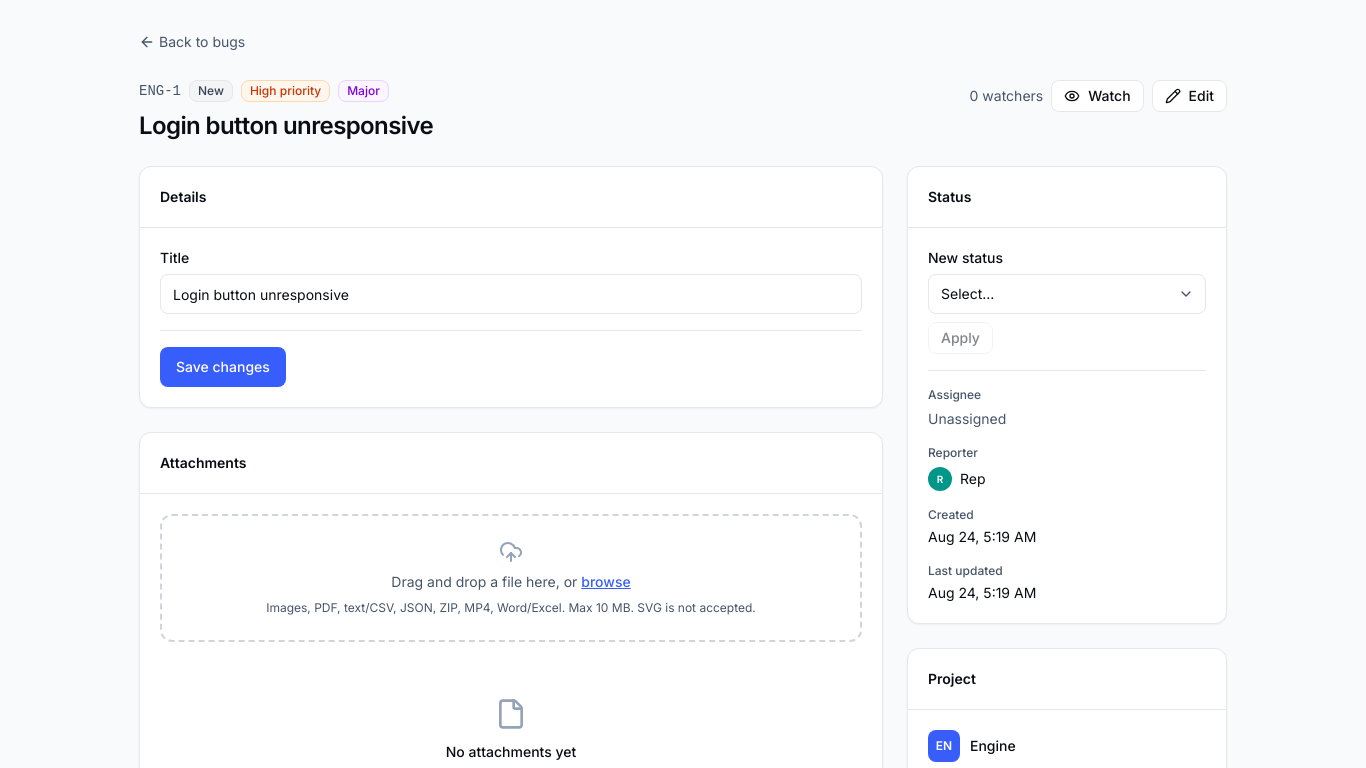
Test: BugDetailPage › shows a version-conflict banner and lets the user reload the latest version
Expected: the form named "edit bug" is shown, [160,248,862,387]
Click the button "Save changes" at (223,367), box [160,347,286,387]
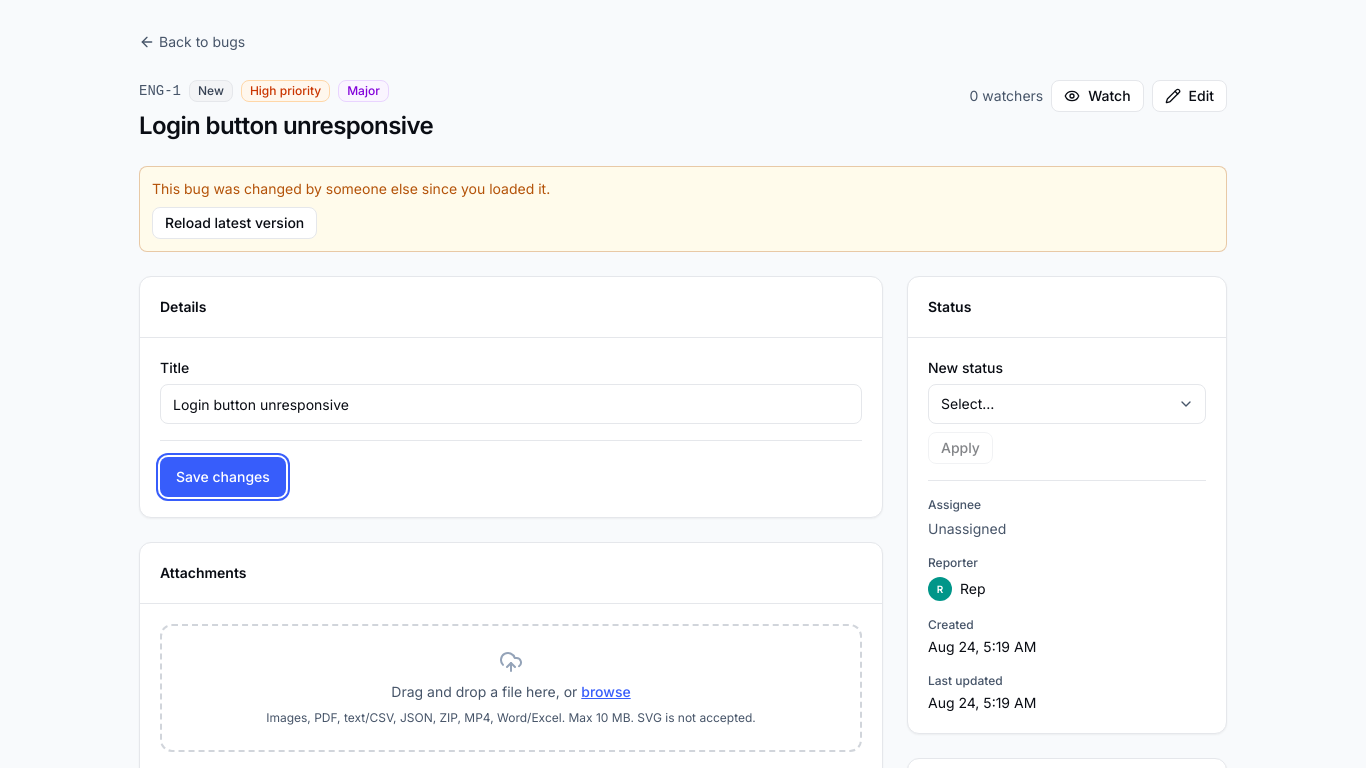
Result: the text "This bug was changed by someone else since you loaded it." is shown at [152,180,550,197]
Click the button "Reload latest version" at (235,223), box [152,207,317,239]
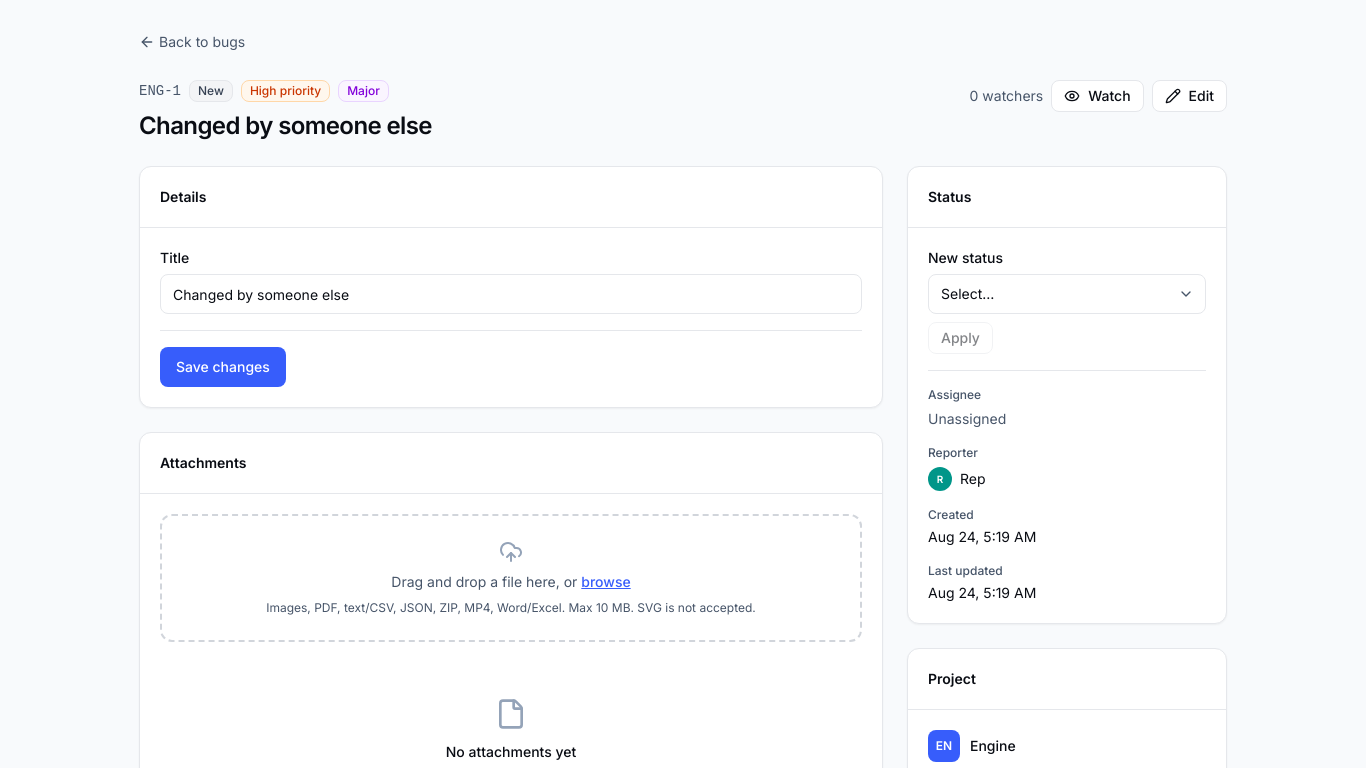
Result: the heading "Changed by someone else" is shown at [139,110,432,142]
